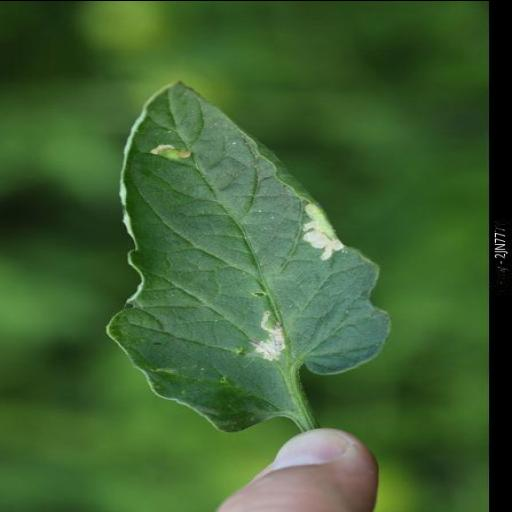disease_tomato: (102, 76, 394, 436)
